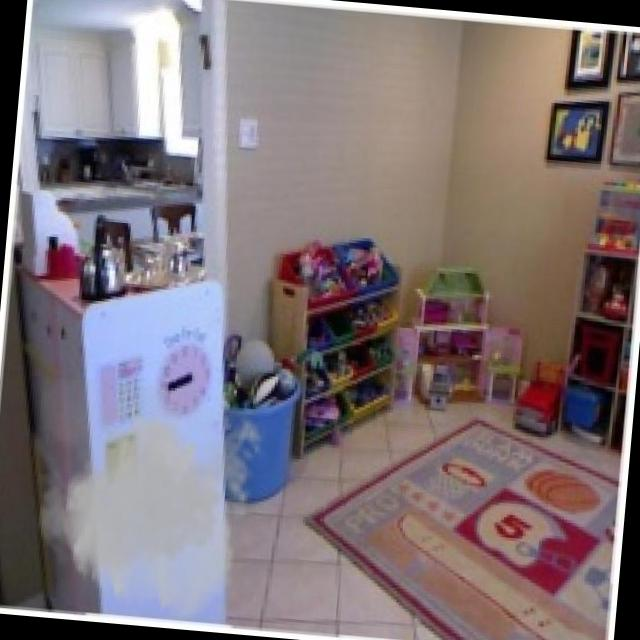Smoke: (23, 376, 273, 629)
